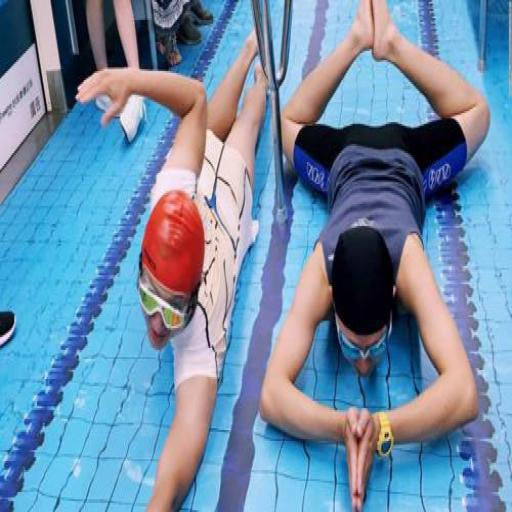swimming: (258, 0, 492, 510), (73, 24, 270, 510)
